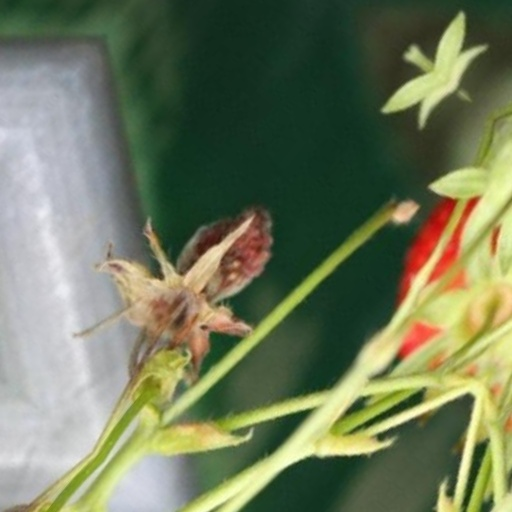Gray Mold: (132, 78, 303, 301)
